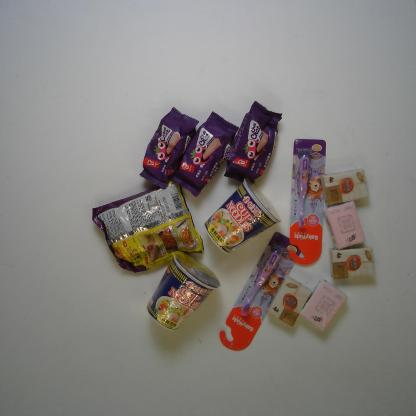Dessert: (170, 110, 238, 197), (221, 99, 283, 188), (138, 106, 198, 194)
Instant Noodles: (92, 178, 208, 275), (203, 175, 282, 254), (146, 251, 220, 332)
Personal Hygiene: (217, 230, 299, 352), (288, 135, 328, 265)
Tissue: (298, 279, 348, 335), (268, 276, 312, 328), (320, 164, 368, 206), (326, 200, 365, 249), (330, 249, 376, 279)
